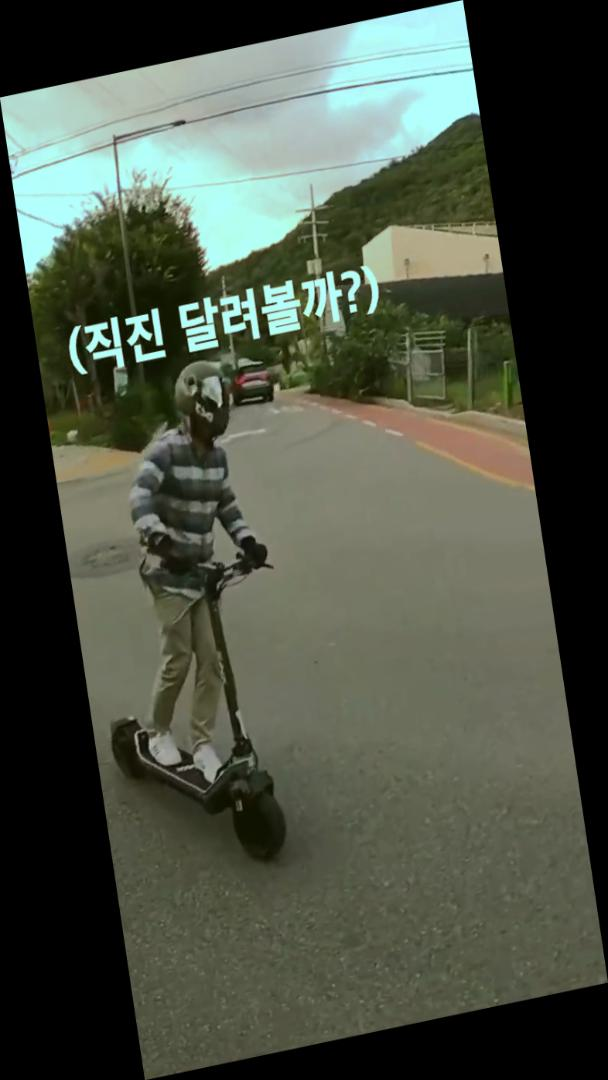helmet: (55, 348, 319, 896)
